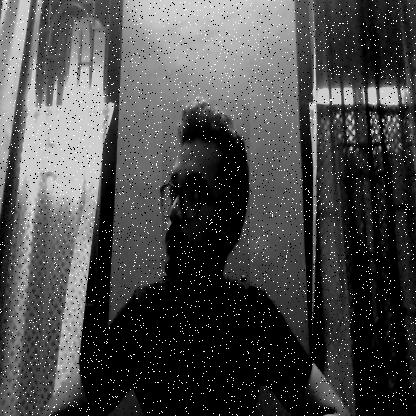Distracted: (162, 100, 250, 288)
